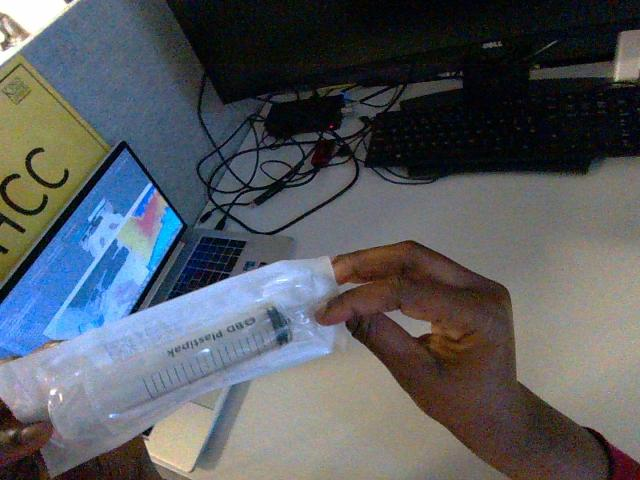syringe: (0, 257, 338, 475)
